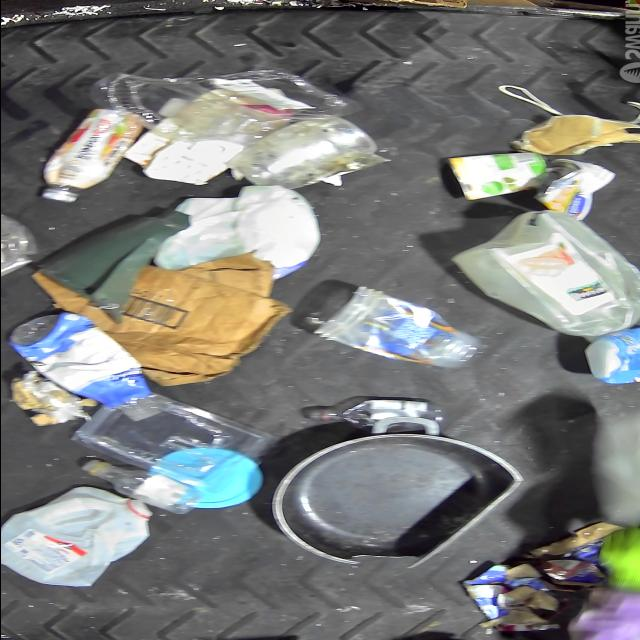can: (444, 150, 550, 200), (531, 159, 615, 219)
milk_jug: (453, 210, 640, 336), (0, 484, 159, 587), (153, 185, 319, 272)
plastic_bottle: (78, 460, 202, 516), (304, 396, 442, 434)
